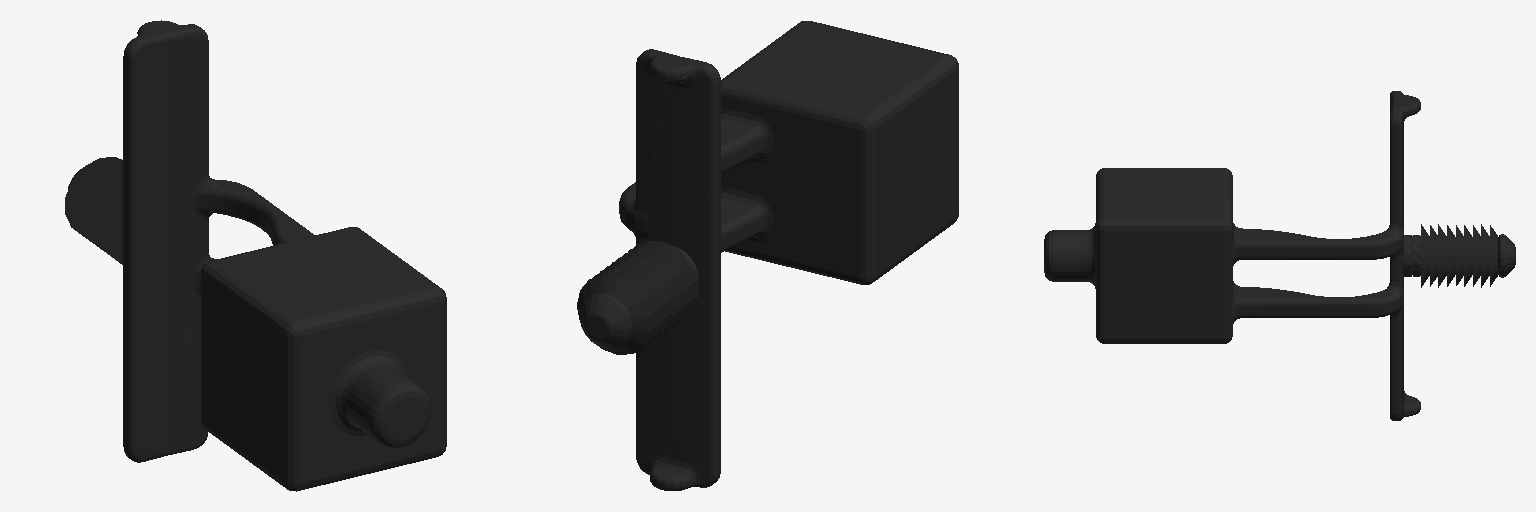
robot.urdf — Clips_2_modified.SLDPRT:
<?xml version="1.0" encoding="utf-8"?>
<!-- This URDF was automatically created by SolidWorks to URDF Exporter! Originally created by [author] ([email redacted]) 
     Commit Version: 1.5.1-0-g916b5db  Build Version: 1.5.7152.31018
     For more information, please see http://wiki.ros.org/sw_urdf_exporter -->
<robot
  name="Clips_2_modified.SLDPRT">
  <link
    name="Clips_2_modified.SLDPRT">
    <inertial>
      <origin
        xyz="0.00026733 -0.022944 -6.48479999859513E-09"
        rpy="0 0 0" />
      <mass
        value="0.0053058" />
      <inertia
        ixx="9.5316E-07"
        ixy="-1.5976E-08"
        ixz="-1.99090000000098E-12"
        iyy="2.543E-07"
        iyz="-6.5845999996097E-13"
        izz="8.9173E-07" />
    </inertial>
    <visual>
      <origin
        xyz="0 0 0"
        rpy="1.5707963267949 0 0" />
      <geometry>
        <mesh
          filename="package://Clips_2_modified.SLDPRT/meshes/Clips_2_modified.SLDPRT.STL" />
      </geometry>
      <material
        name="">
        <color
          rgba="0.2 0.2 0.2 1" />
        <texture
          filename="package://Clips_2_modified.SLDPRT/textures/" />
      </material>
    </visual>
    <collision>
      <origin
        xyz="0 0 0"
        rpy="1.5707963267949 0 0" />
      <geometry>
        <mesh
          filename="package://Clips_2_modified.SLDPRT/meshes/Clips_2_modified.SLDPRT.STL" />
      </geometry>
    </collision>
  </link>
</robot>

--- Render facts (derived) ---
3 views of the same robot in one strip: view 1: azimuth 30°, elevation 25°; view 2: azimuth 150°, elevation 25°; view 3: azimuth 270°, elevation 25° (orthographic).
Robot: Clips_2_modified.SLDPRT — 1 links, 0 joints (none); root link Clips_2_modified.SLDPRT; default pose: all joints at 0.
Visible links, largest first — view 1: Clips_2_modified.SLDPRT; view 2: Clips_2_modified.SLDPRT; view 3: Clips_2_modified.SLDPRT.
Boxes of the visible links, box(x1,y1,x2,y2) form: Clips_2_modified.SLDPRT: box(65, 20, 446, 491); Clips_2_modified.SLDPRT: box(577, 21, 958, 490); Clips_2_modified.SLDPRT: box(1044, 91, 1515, 420).
Size in the robot's own frame: 0.016 by 0.055 by 0.04 metres.
Meshes: 1 distinct files referenced, 1 mesh visuals loaded (1 binary STL).